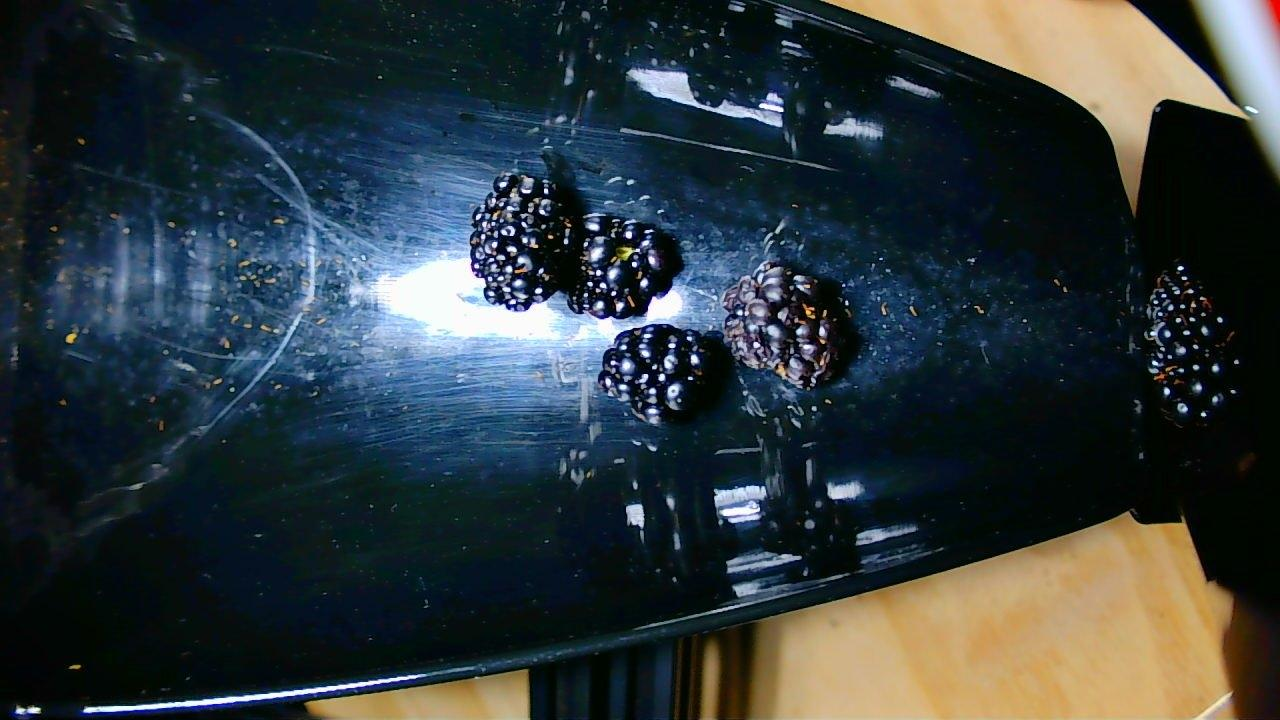berry: (468, 163, 576, 309), (725, 258, 844, 390), (1140, 267, 1234, 428), (602, 324, 714, 426), (578, 216, 672, 317)
